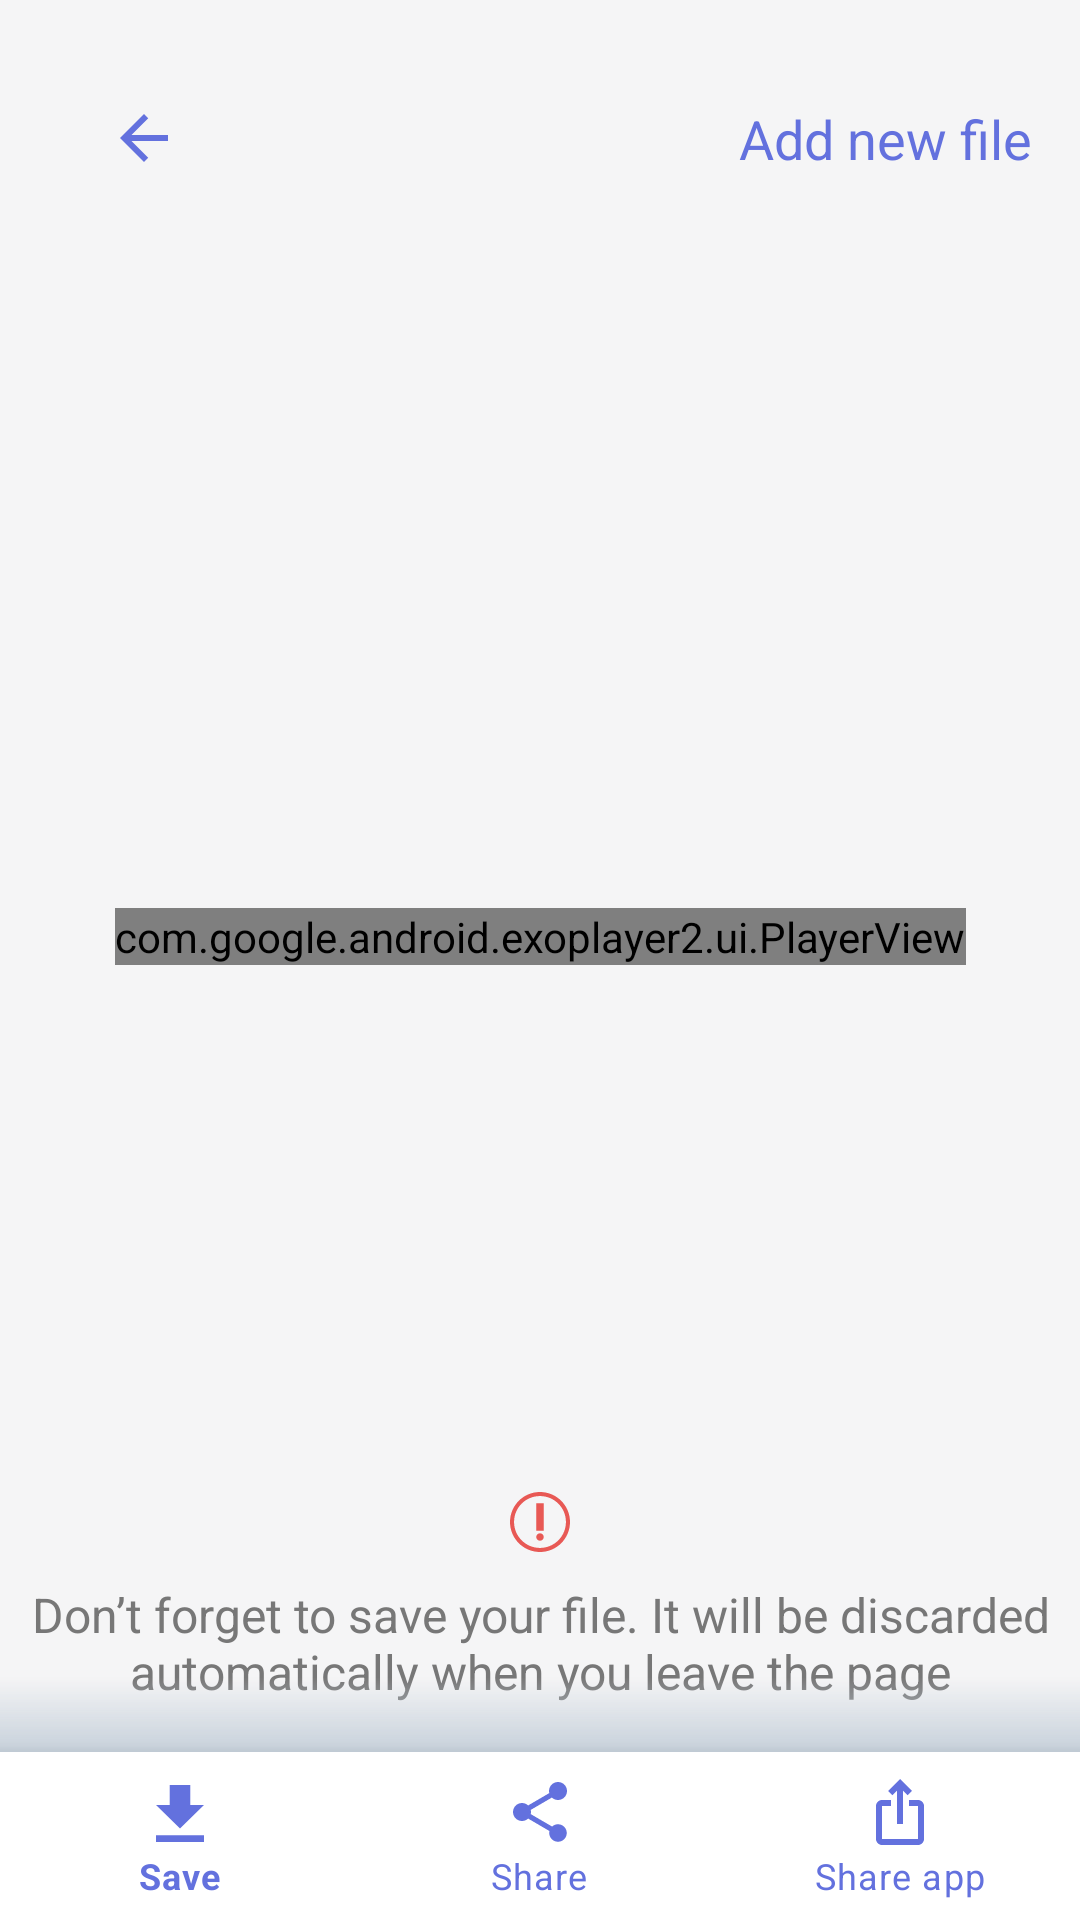

Named icons in this screenshot (1080w x 1920h) and their centers, (x,y):
arrow back: (144,138)
